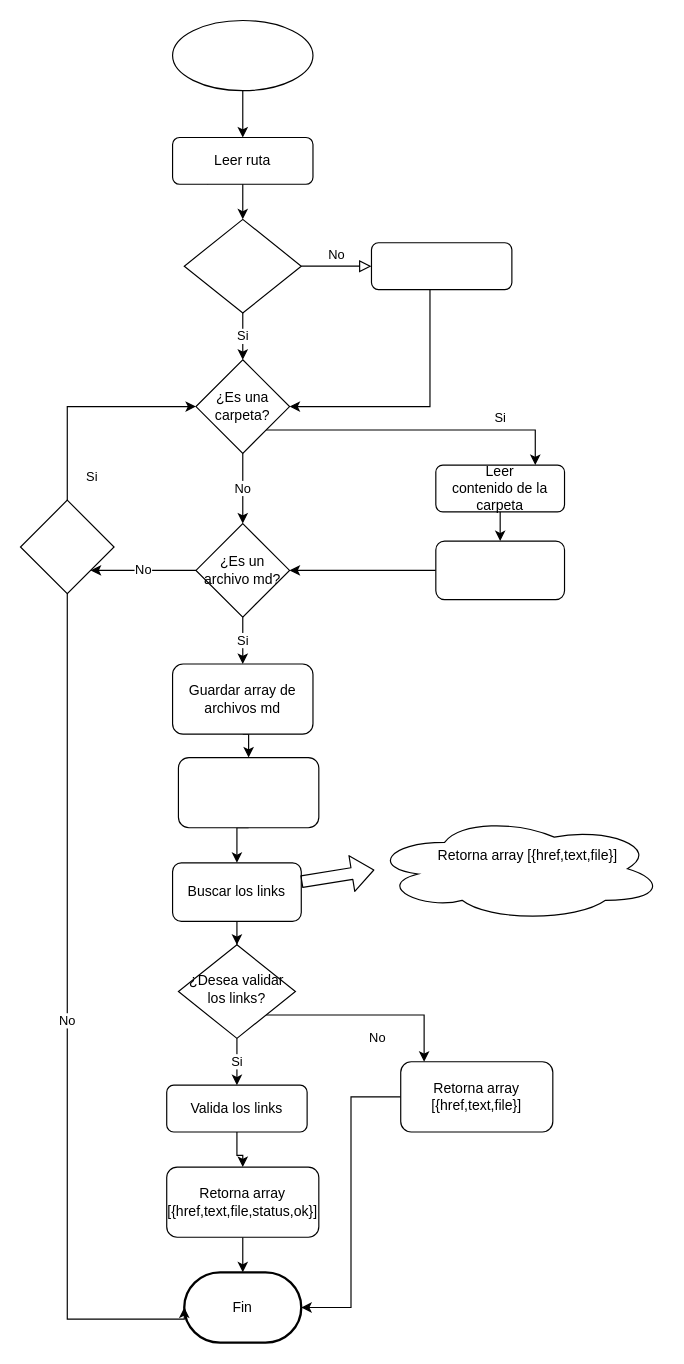
The diagram is 684 pixels wide and 1364 high, and some of its shapes have lost their labels. Here are the shapes that lost their labels. From the top down, the box of each, then its label:
(171, 19, 313, 91): INICIO
(183, 218, 301, 313): ¿La ruta es absoluta?
(370, 242, 512, 290): Convertir la ruta a absoluta
(19, 499, 114, 594): ¿Hay mas archivos o carpetas?
(435, 540, 565, 600): Convertir en una ruta absoluta
(177, 756, 319, 828): Leer contenido de los archivos
